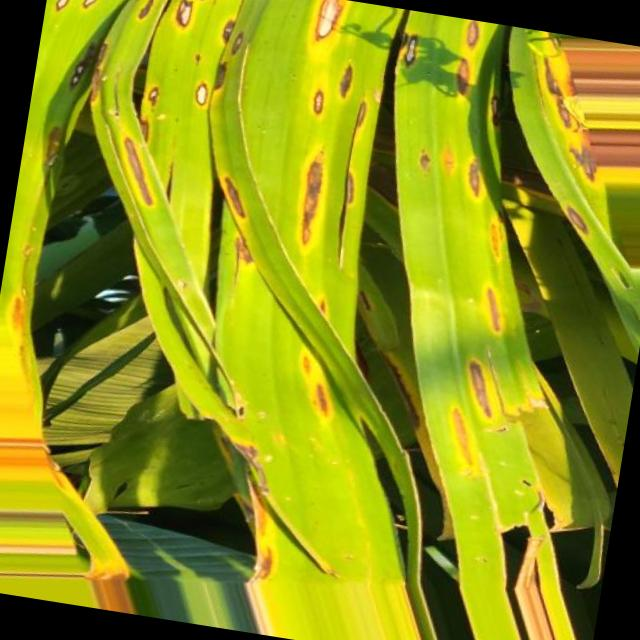Banana_Yellow_Sigatoka: (22, 0, 624, 290), (142, 335, 618, 640)
